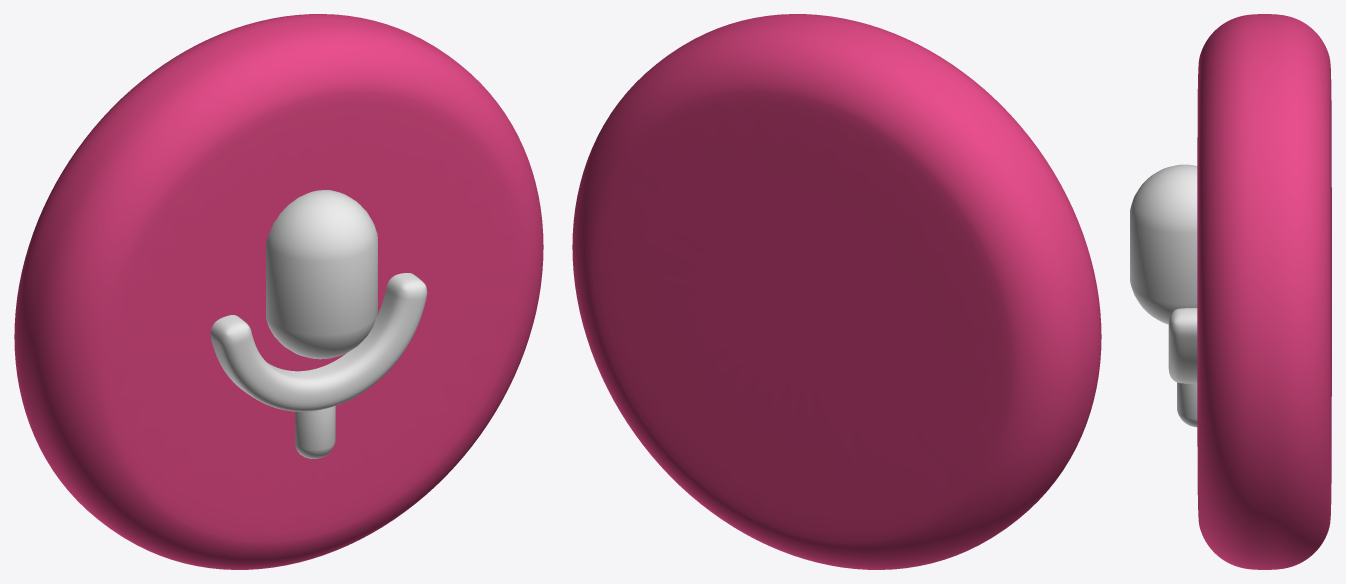
File: voice-disabled-animated-3d-icon-862068358345.glb
3 renders of one model, left to right at view 1: azimuth 30°, elevation 25°; view 2: azimuth 150°, elevation 25°; view 3: azimuth 270°, elevation 25°, orthographic. The views are drawn at different scales.
Visible parts, largest first — view 1: Base.015, Sound 1, Microphone Stand; view 2: Base.015; view 3: Base.015, Sound 1, Microphone Stand.
Boxes of the visible parts, x1,y1,x2,y2 form: Base.015: (14,14,543,569); Sound 1: (266,190,377,359); Microphone Stand: (210,273,427,458); Base.015: (572,14,1101,569); Base.015: (1197,14,1331,569); Sound 1: (1130,164,1197,324); Microphone Stand: (1168,308,1197,427).
Size of what is drawn, in the model's own units: 2.38 by 2.38 by 0.8661.
